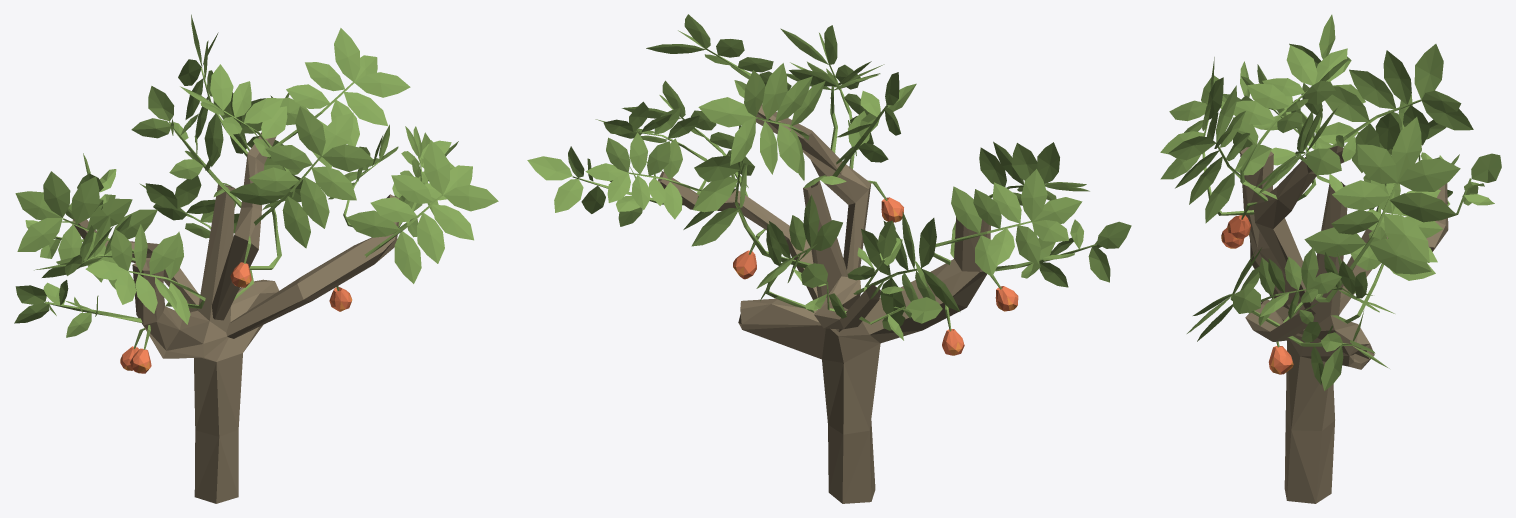
The model's file is Apple_5_2.fbx.
The picture shows the model from 3 angles, left to right: view 1: azimuth 30°, elevation 25°; view 2: azimuth 150°, elevation 25°; view 3: azimuth 270°, elevation 25°; orthographic projection. The views are drawn at different scales.
Parts seen in each view (by area): view 1: Apple_5_2; view 2: Apple_5_2; view 3: Apple_5_2.
Boxes of the visible parts, box(x1,y1,x2,y2) form: Apple_5_2: box(14, 14, 498, 503); Apple_5_2: box(527, 14, 1131, 503); Apple_5_2: box(1160, 14, 1501, 503).
Size of the model in its own units: 477 by 390 by 257.
